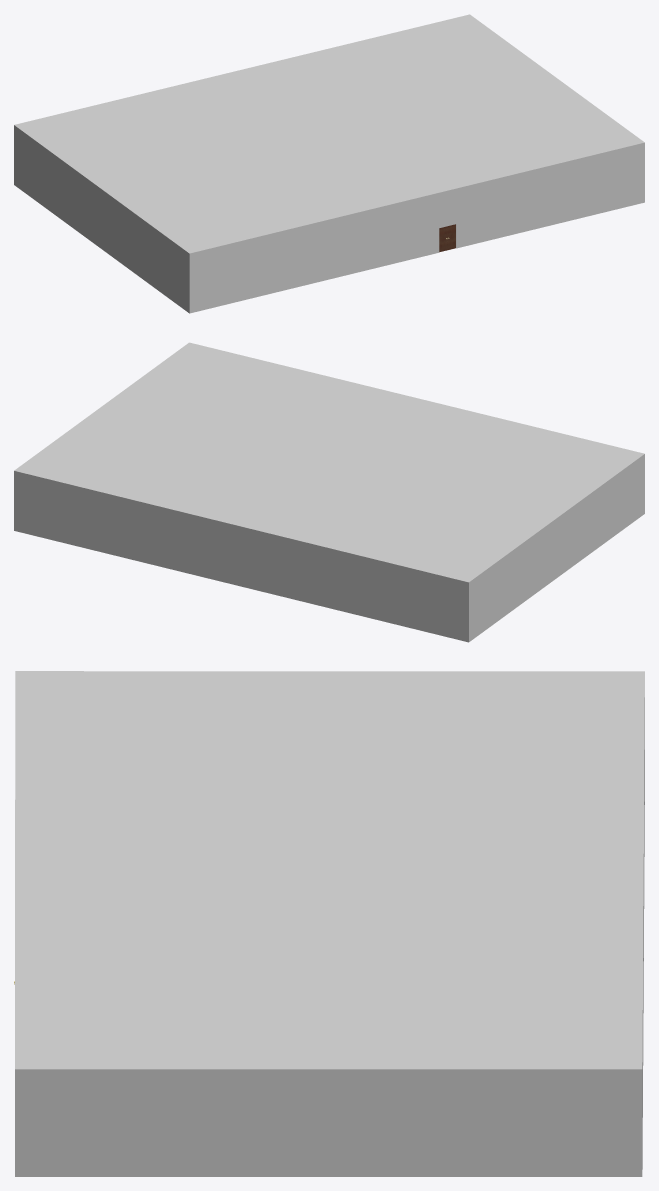
Rendered from Roomsave 4.fbx.
The picture shows the model from 3 angles, top to bottom: view 1: azimuth 30°, elevation 25°; view 2: azimuth 150°, elevation 25°; view 3: azimuth 270°, elevation 25°; orthographic projection. The views are drawn at different scales.
Visible parts, largest first — view 1: root, Plane; view 2: root, Plane; view 3: root, Plane.
Boxes of the visible parts, x1,y1,x2,y2 form: root: [14, 14, 644, 254]; Plane: [14, 126, 644, 313]; root: [14, 342, 644, 583]; Plane: [14, 455, 644, 642]; root: [15, 671, 644, 1071]; Plane: [15, 700, 644, 1176].
Size of the model in its own units: 3889 by 490 by 2605.
